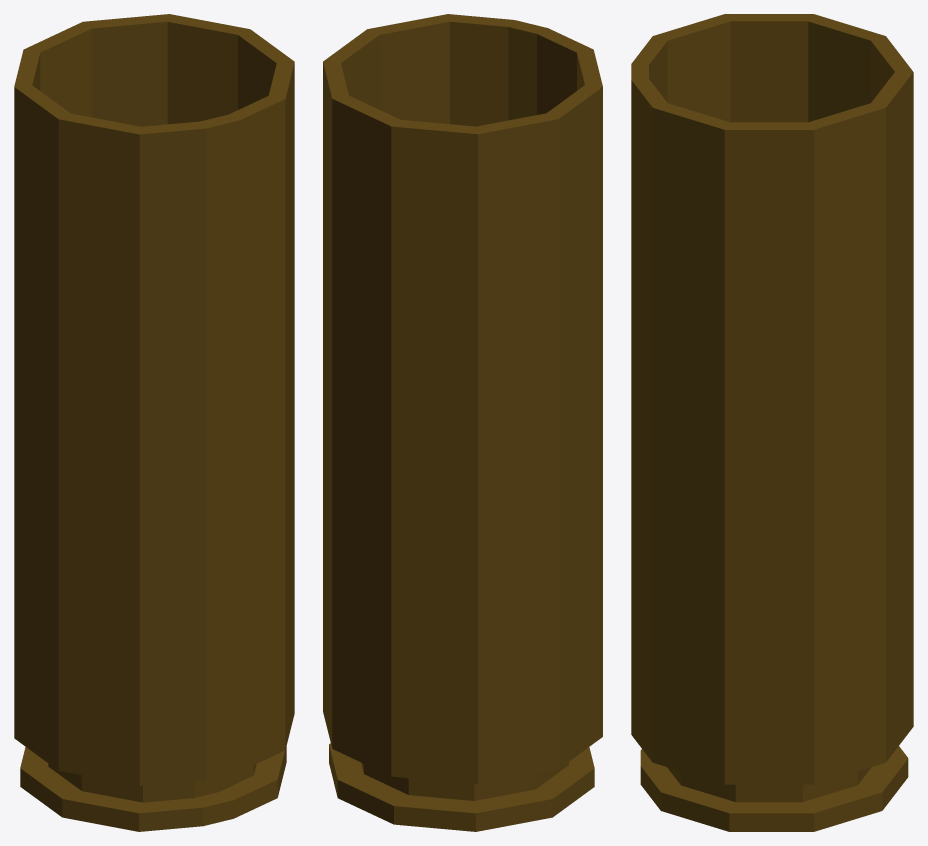
File: Revolver Casing.glb
The picture shows the model from 3 angles, left to right: view 1: azimuth 30°, elevation 25°; view 2: azimuth 150°, elevation 25°; view 3: azimuth 270°, elevation 25°; orthographic projection.
Visible parts, largest first — view 1: Revolver Casing; view 2: Revolver Casing; view 3: Revolver Casing.
Boxes of the visible parts, x1,y1,x2,y2 form: Revolver Casing: (14, 14, 294, 831); Revolver Casing: (323, 14, 602, 831); Revolver Casing: (631, 14, 913, 831).
Size of the model in its own units: 1.11 by 3.16 by 1.15.
